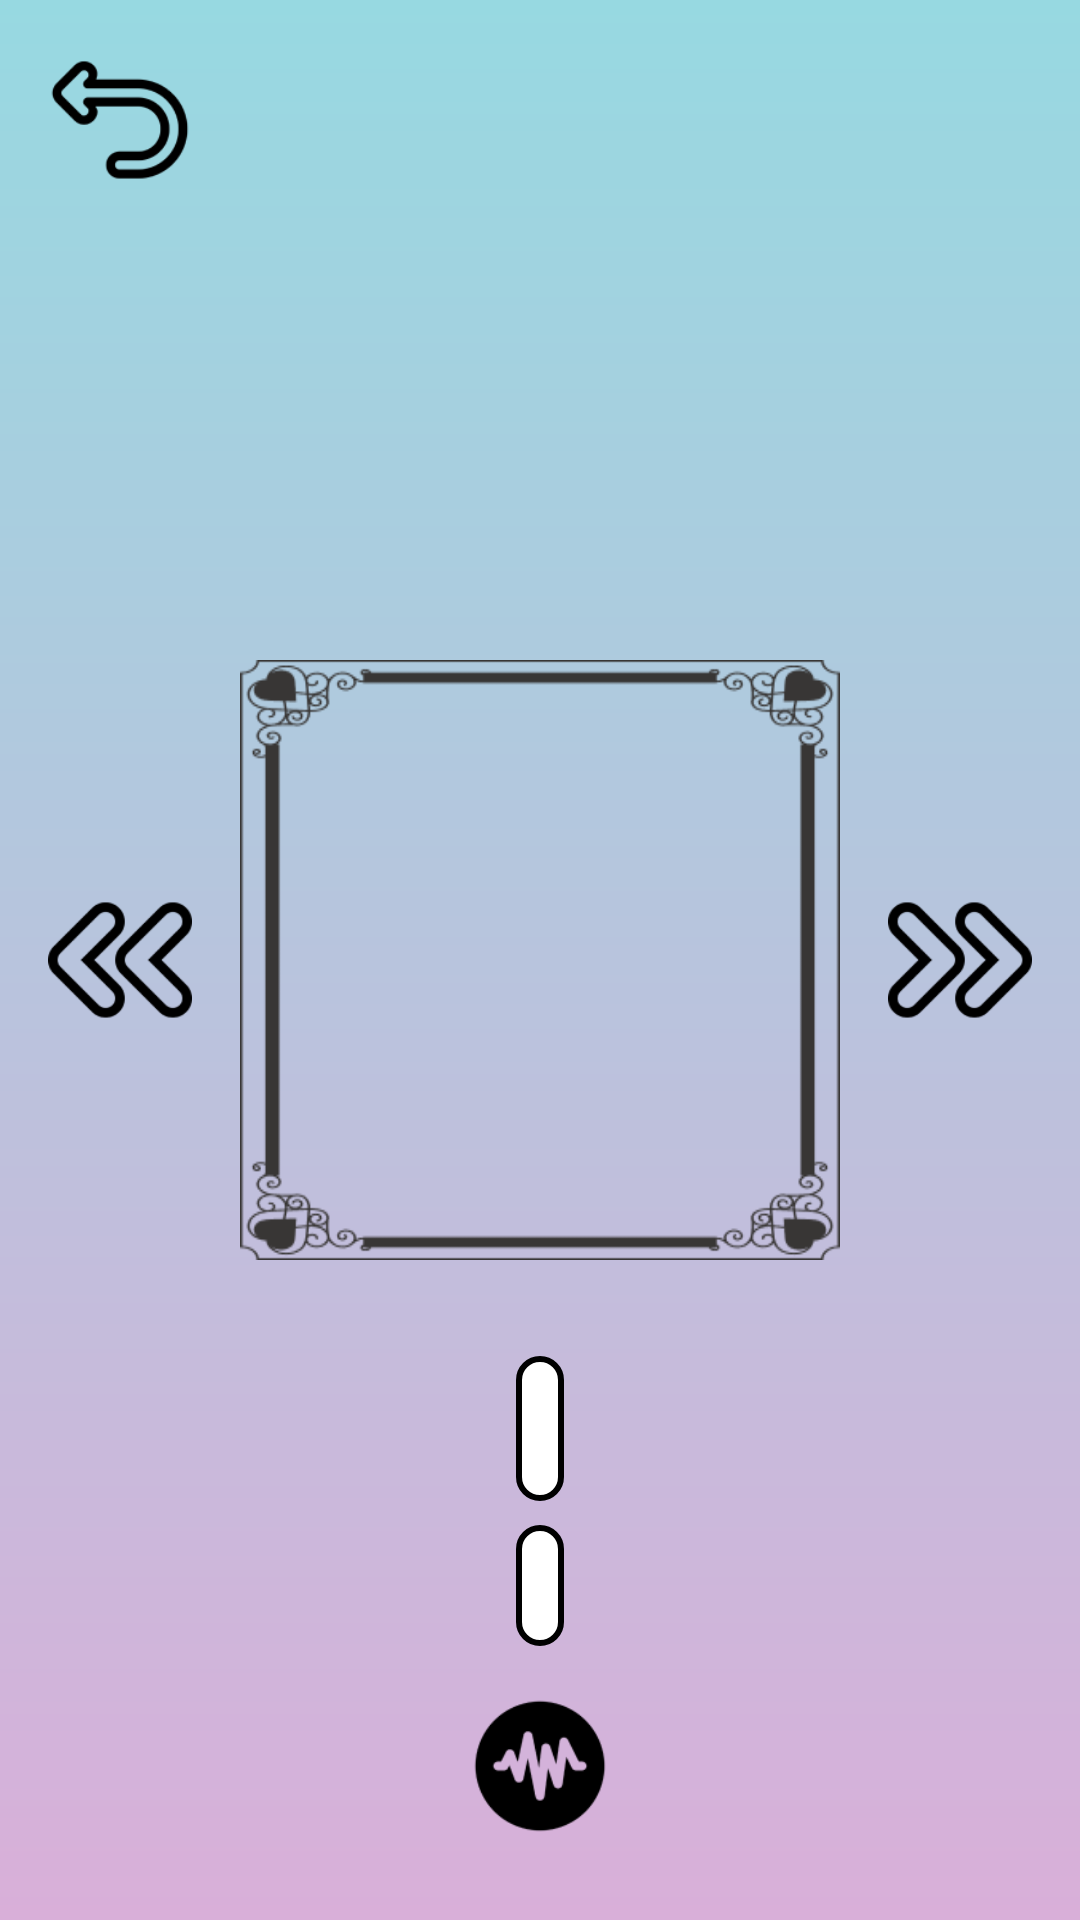

Point at icon controls on the screen. Image size 1080x1920, points as (x,y).
arrow left: (120,960)
arrow right: (960,960)
back: (119,120)
